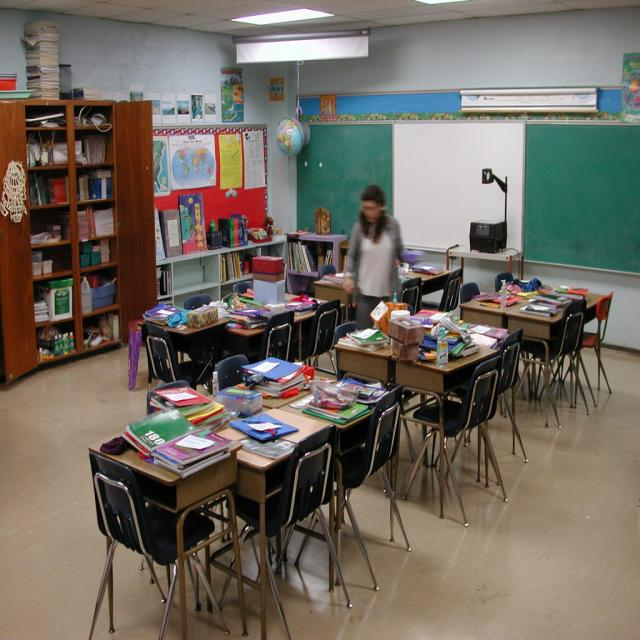chair: (87, 449, 233, 640), (231, 423, 352, 636), (401, 347, 508, 525), (333, 381, 411, 591), (518, 300, 586, 428), (489, 328, 528, 462), (578, 293, 614, 405), (143, 328, 193, 392), (299, 298, 339, 375), (243, 309, 295, 368), (416, 266, 463, 313), (214, 354, 248, 392)
desk: (112, 363, 398, 580), (334, 310, 517, 466), (459, 282, 594, 414), (145, 282, 327, 359)
person: (342, 185, 404, 329)
